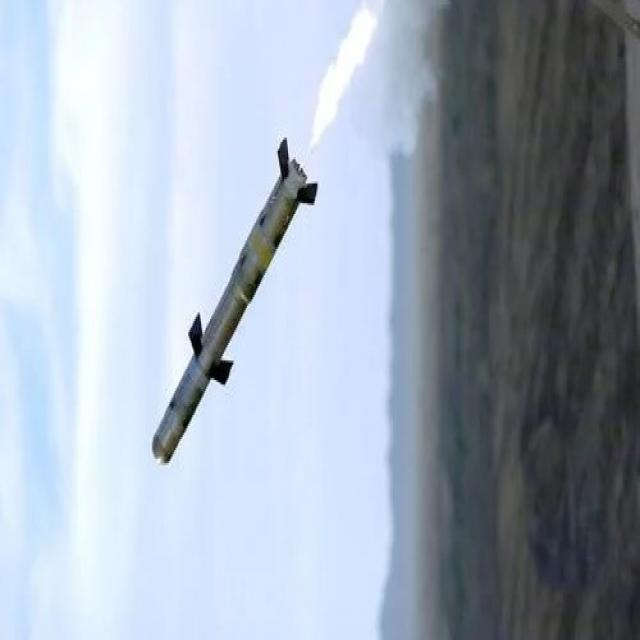missile: (147, 151, 312, 470)
